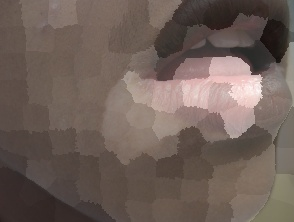vitiligo: (85, 63, 292, 177)
